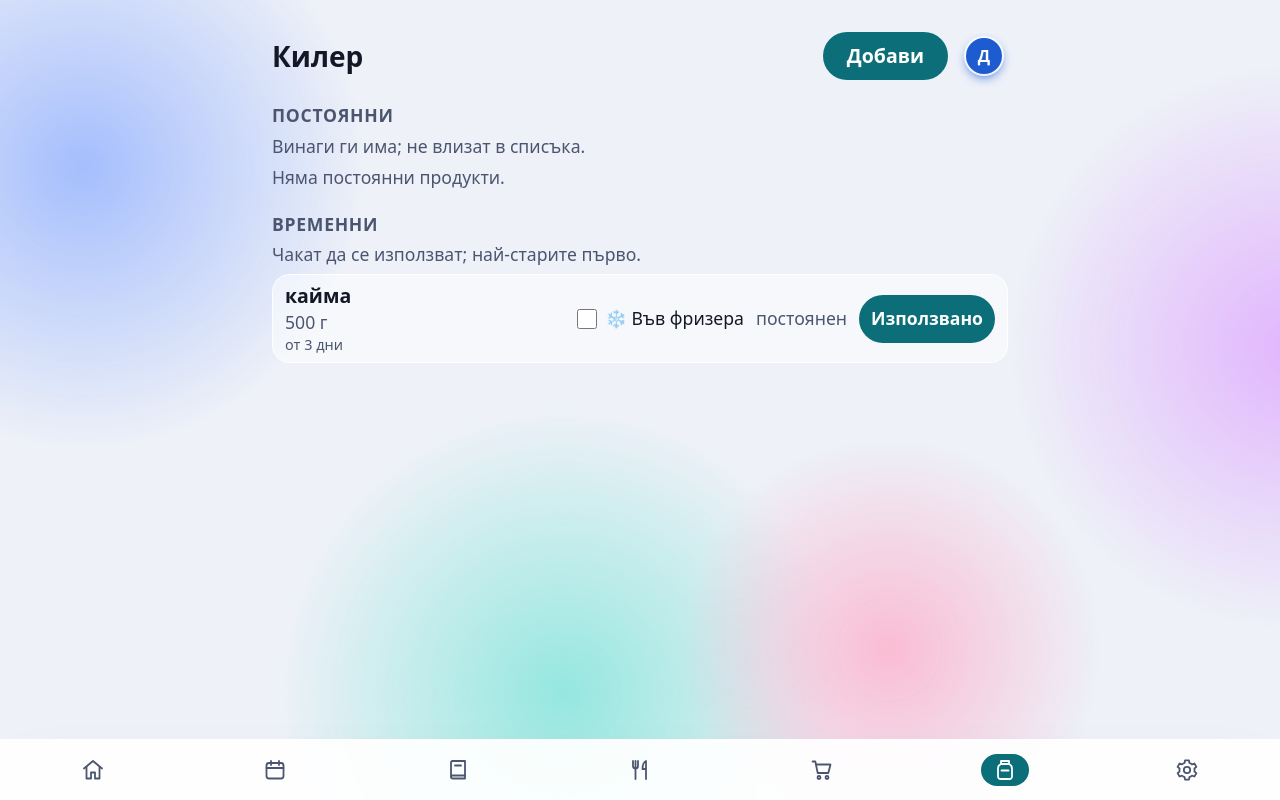
PantryScreen › „Върни“ (#129 D-05) › „Върни“ връща реда с бележката и възрастта, без заявка
Click the button with aria-label "Използвано: кайма" at (927, 319), box [859,295,995,343]
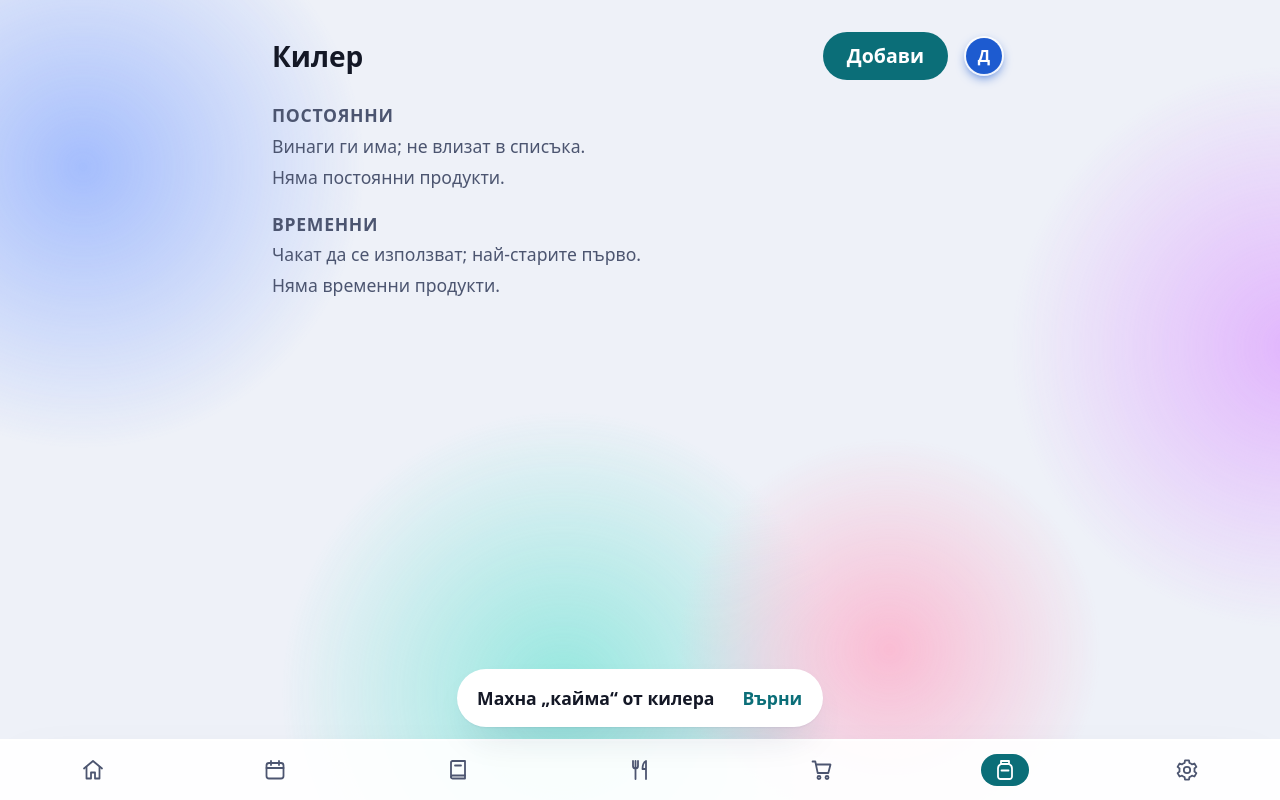
Click the button "Върни" at (772, 698), box [726,674,818,722]
Wait 10000 ms
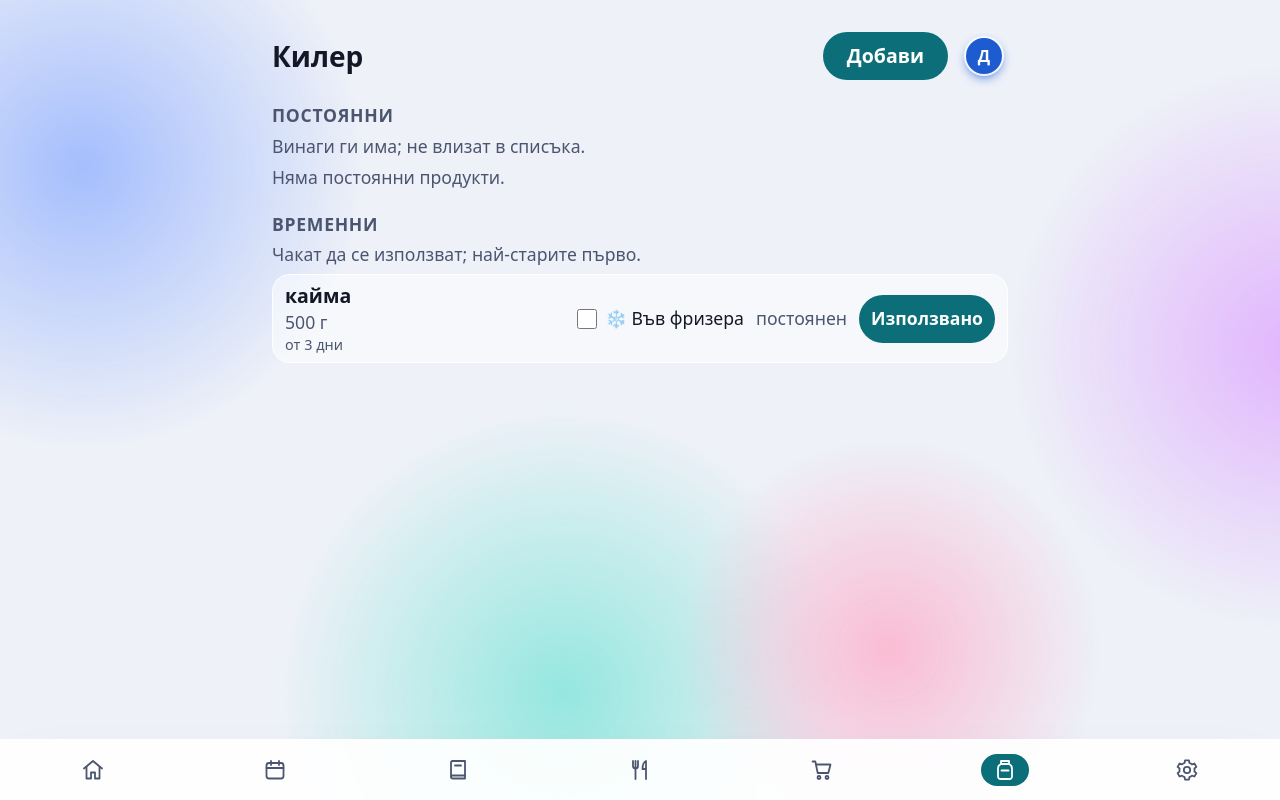
Now the text "500 г" is shown, box [285,310,327,334]
Now the text "от 3 дни" is shown, box [285,334,343,354]
